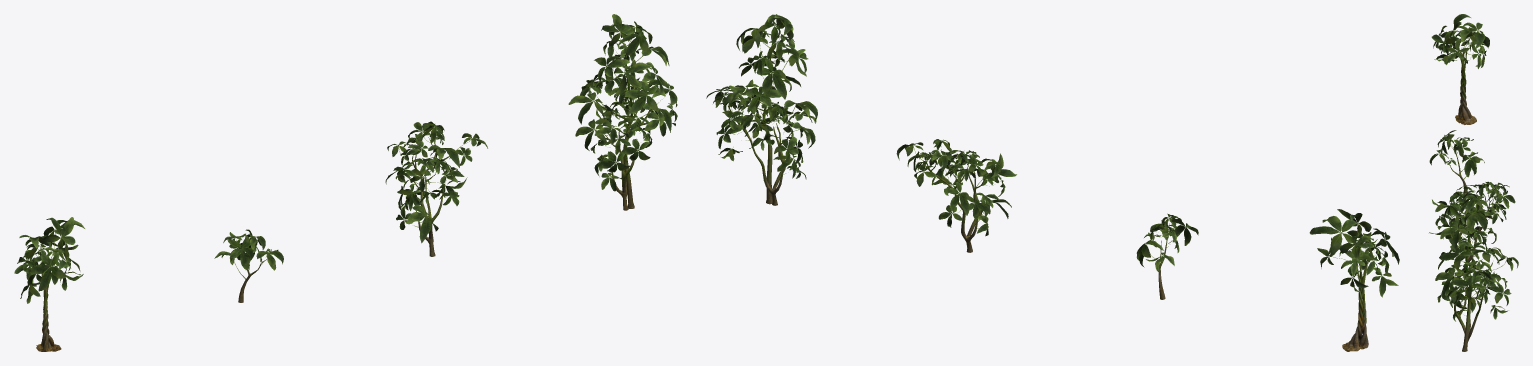
Rendered from pachira_aquatica_01.glb.
3 views of the same model, side by side, from view 1: azimuth 30°, elevation 25°; view 2: azimuth 150°, elevation 25°; view 3: azimuth 270°, elevation 25° (orthographic). The views are drawn at different scales.
Parts seen in each view (by area): view 1: pachira_aquatica_01_leaves_a, pachira_aquatica_01_bark_a; view 2: pachira_aquatica_01_leaves_a, pachira_aquatica_01_bark_a; view 3: pachira_aquatica_01_leaves_a, pachira_aquatica_01_bark_a.
Boxes of the visible parts, x1,y1,x2,y2 form: pachira_aquatica_01_leaves_a: [14, 14, 677, 303]; pachira_aquatica_01_bark_a: [36, 44, 652, 351]; pachira_aquatica_01_leaves_a: [706, 14, 1399, 297]; pachira_aquatica_01_bark_a: [728, 44, 1368, 351]; pachira_aquatica_01_leaves_a: [1429, 14, 1518, 321]; pachira_aquatica_01_bark_a: [1447, 50, 1497, 351].
Size of the model in its own units: 6.87 by 1.9 by 0.9979.
2 materials, 2 textured.
